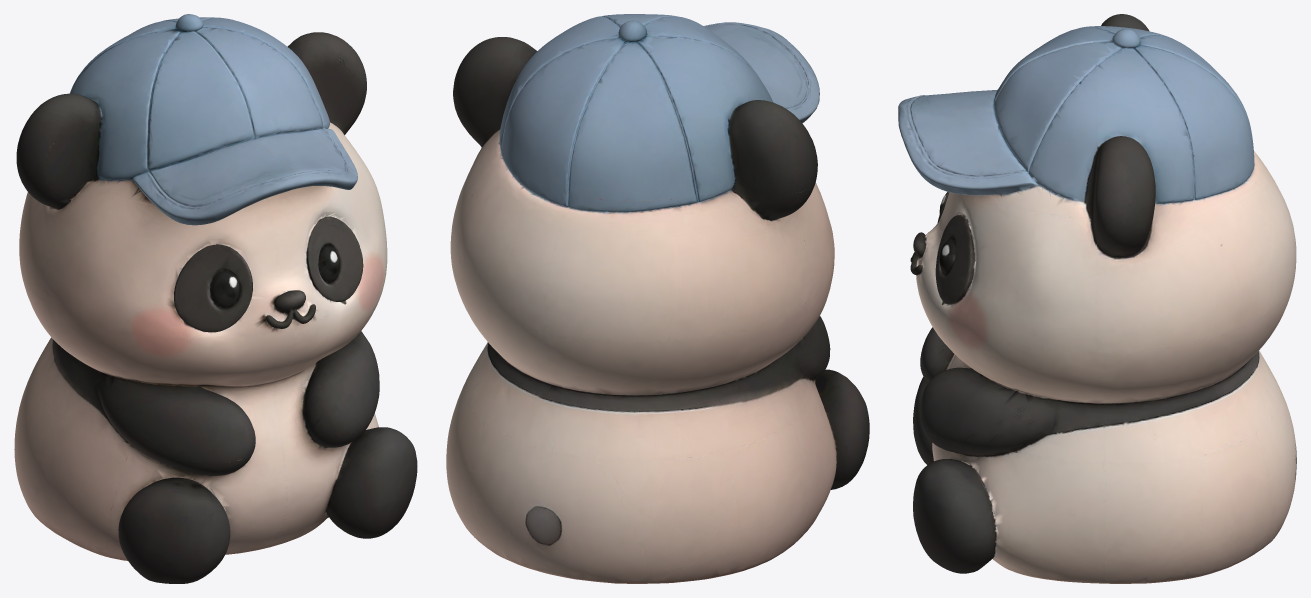
Rendered from model-mobile-v002.glb.
3 views of the same model, side by side, from view 1: azimuth 30°, elevation 25°; view 2: azimuth 150°, elevation 25°; view 3: azimuth 270°, elevation 25° (orthographic). The views are drawn at different scales.
Visible parts, largest first — view 1: tmp5probyr7obj; view 2: tmp5probyr7obj; view 3: tmp5probyr7obj.
Boxes of the visible parts, x1,y1,x2,y2 form: tmp5probyr7obj: (14, 14, 417, 583); tmp5probyr7obj: (446, 14, 869, 583); tmp5probyr7obj: (898, 14, 1296, 583).
Size of the model in its own units: 0.752 by 0.9999 by 0.7457.
Materials: 1 (1 with a texture image).
